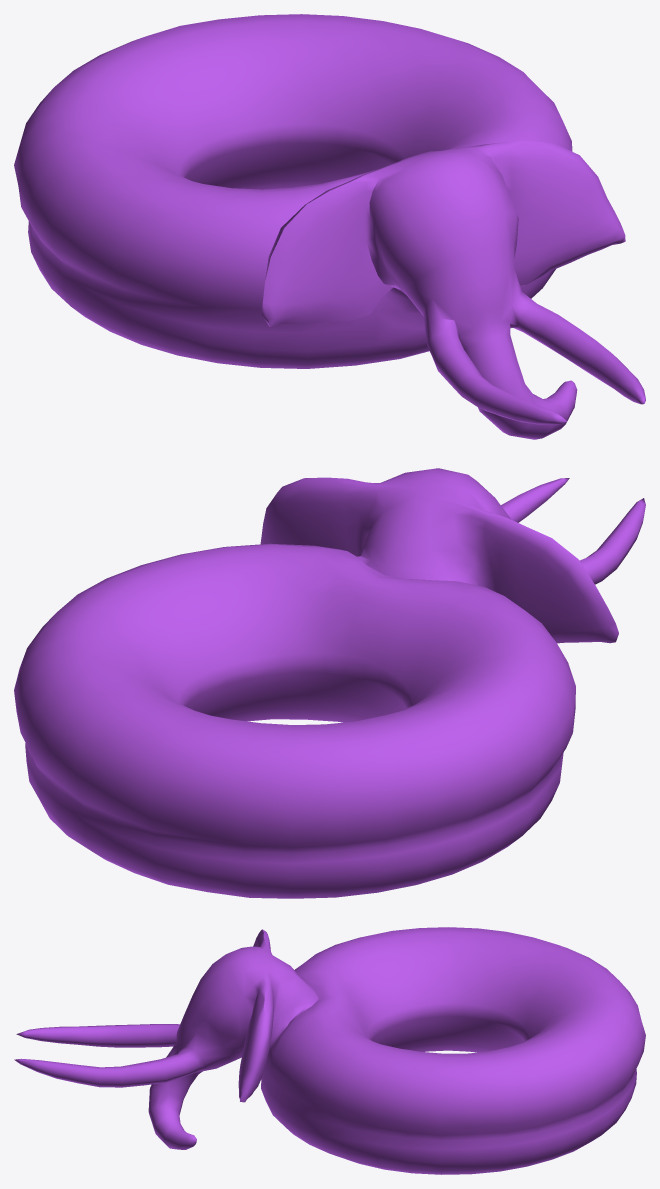
Rendered from elephant_low.fbx.
The picture shows the model from 3 angles, top to bottom: view 1: azimuth 30°, elevation 25°; view 2: azimuth 150°, elevation 25°; view 3: azimuth 270°, elevation 25°; orthographic projection. The views are drawn at different scales.
Visible parts, largest first — view 1: elephant_low; view 2: elephant_low; view 3: elephant_low.
Part boxes in pixels (x1,y1,x2,y2): elephant_low: (14,14,645,439); elephant_low: (14,468,645,898); elephant_low: (14,927,645,1174).
Size of the model in its own units: 170 by 83.15 by 273.
